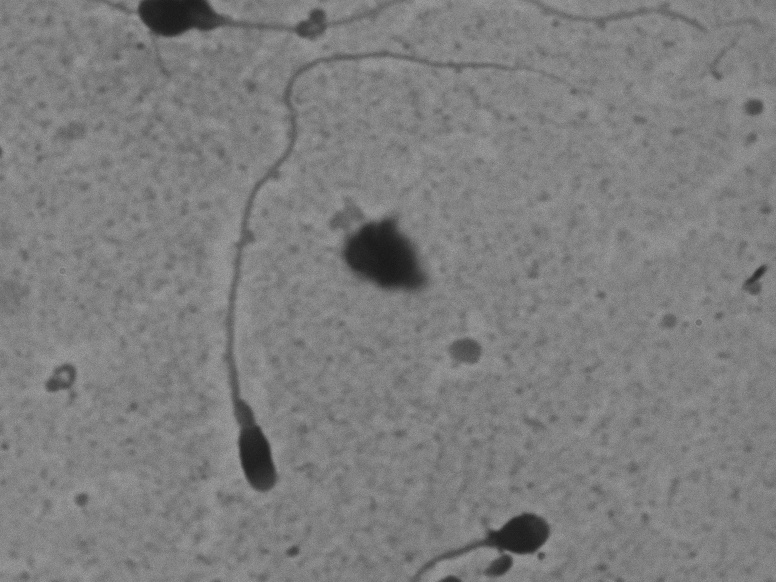Abnormal: (203, 40, 587, 502), (364, 454, 601, 579)
